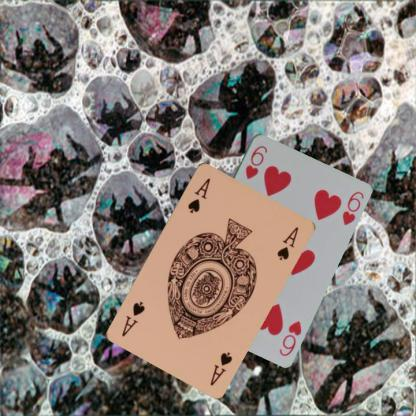6h: (276, 317, 303, 358), (242, 142, 269, 180)
As: (185, 175, 211, 214), (207, 349, 233, 387)
